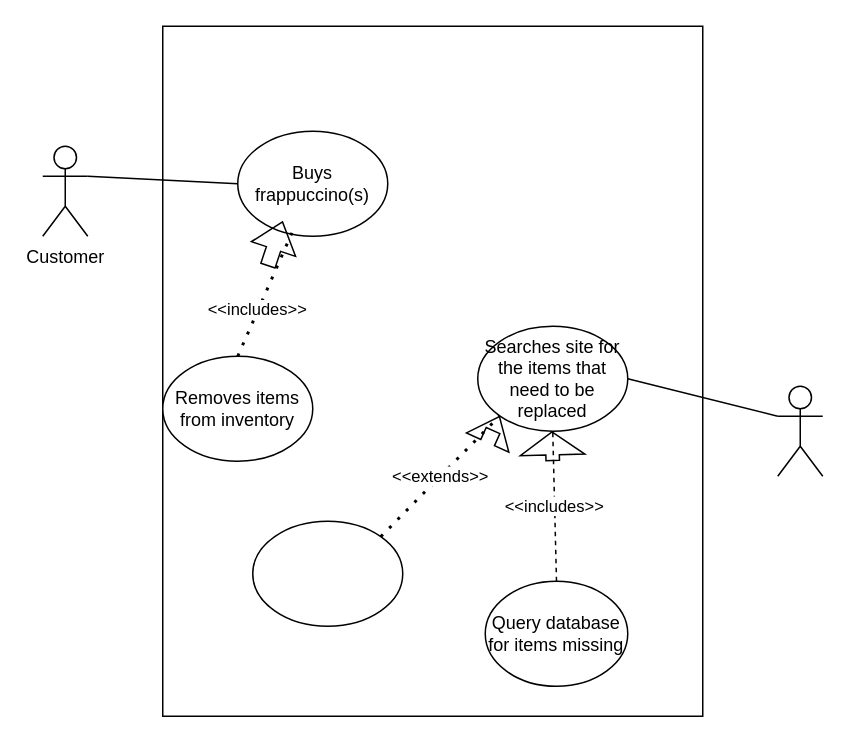
Some shapes in this 861 by 743 pixel diagram are drawn without their labels. Each missing label, with the centre of its shape:
"Buys items" goes at point (327, 573).
"Manager" goes at point (799, 430).
